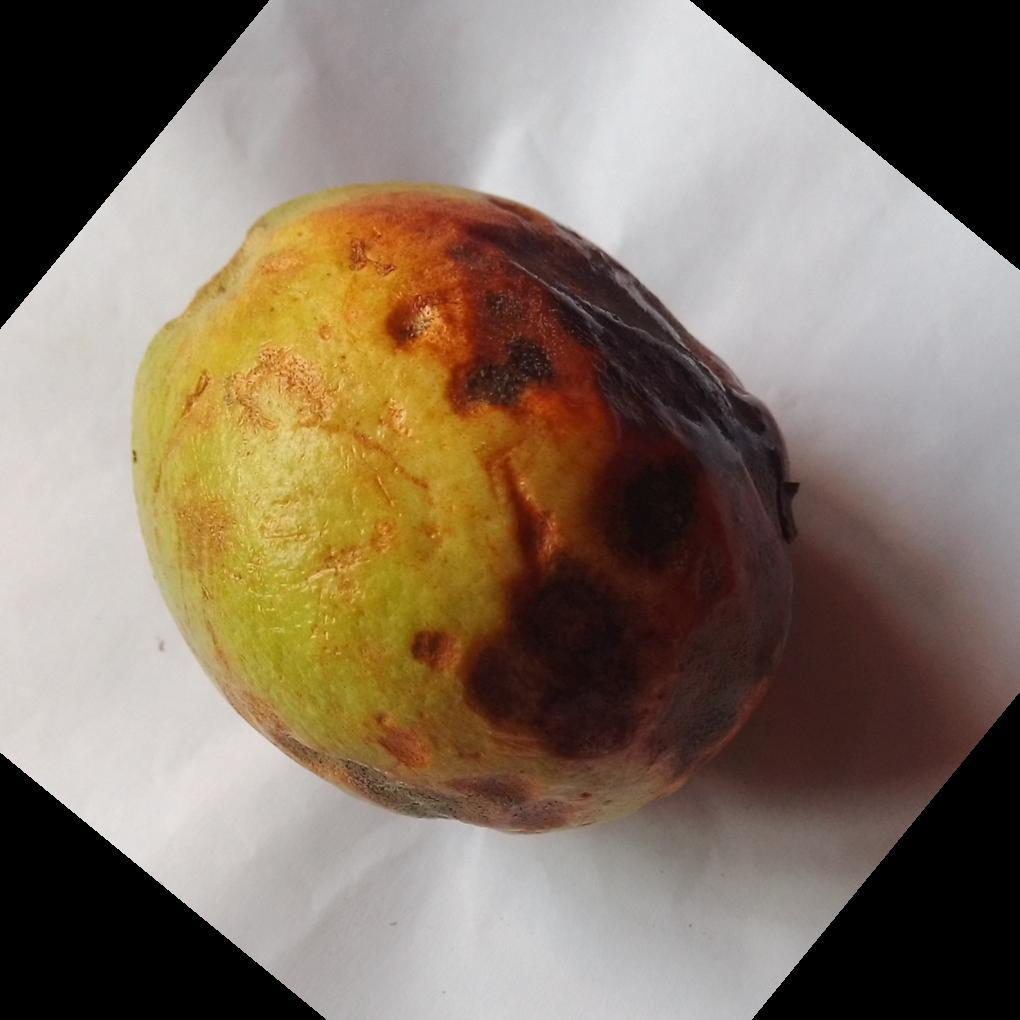FreshOrange: (127, 183, 797, 839)
